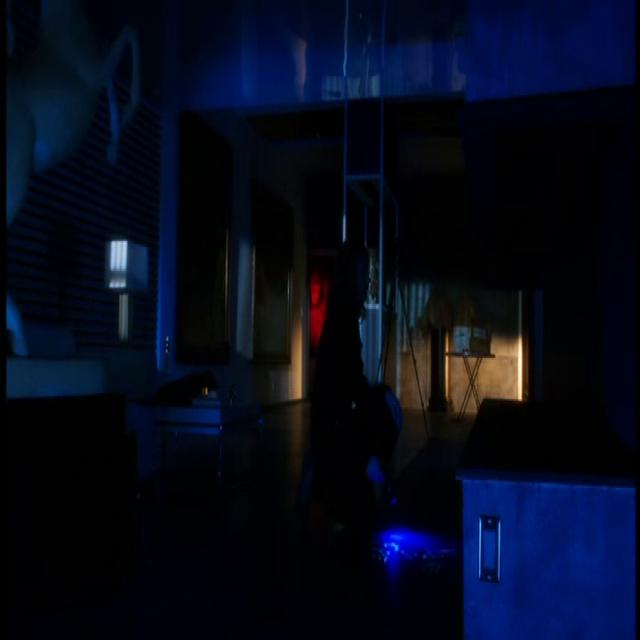People: (289, 225, 410, 530)
Table: (454, 374, 640, 640), (141, 376, 285, 508)
chair: (3, 376, 156, 639)
